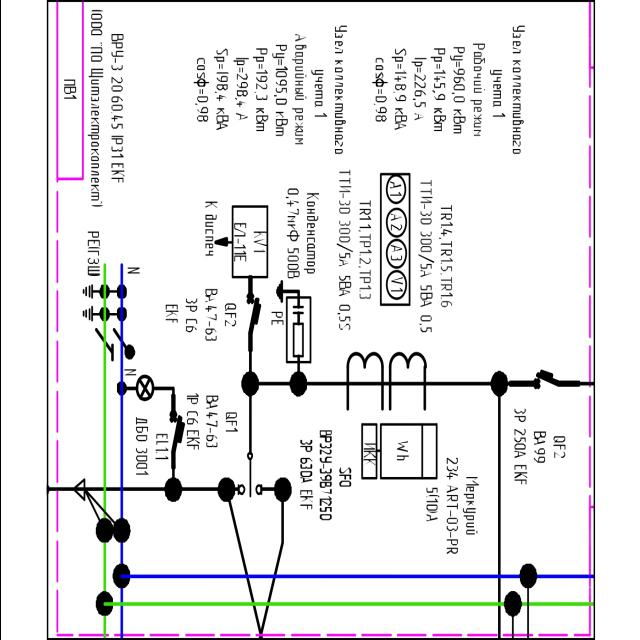-: (424, 455, 482, 557), (161, 284, 218, 346), (104, 28, 126, 188), (297, 428, 334, 522), (510, 404, 546, 486), (416, 178, 434, 340), (337, 165, 352, 334), (184, 386, 220, 452), (232, 218, 266, 266), (129, 417, 149, 478)
HL: (136, 374, 155, 402)
PA: (382, 236, 407, 268), (383, 206, 407, 238), (383, 174, 407, 206)
PV: (384, 270, 408, 302)
QF: (242, 289, 262, 353), (166, 409, 186, 471), (531, 367, 561, 392)
TT: (342, 350, 386, 418), (386, 348, 430, 416)
WH: (378, 419, 440, 482)
switch: (237, 452, 261, 502)
